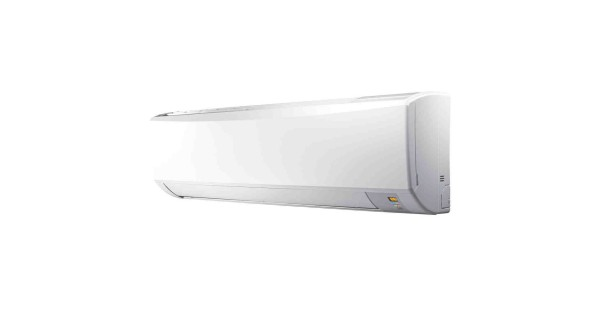ac: (149, 90, 459, 231)
